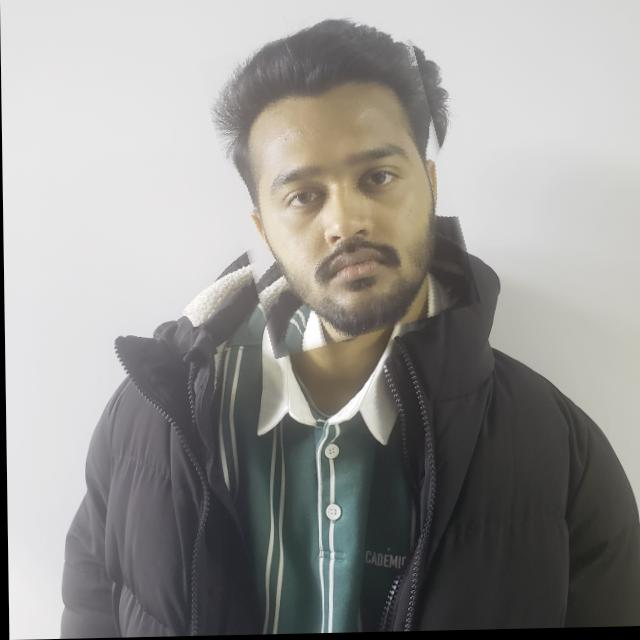sad: (212, 17, 463, 351)
